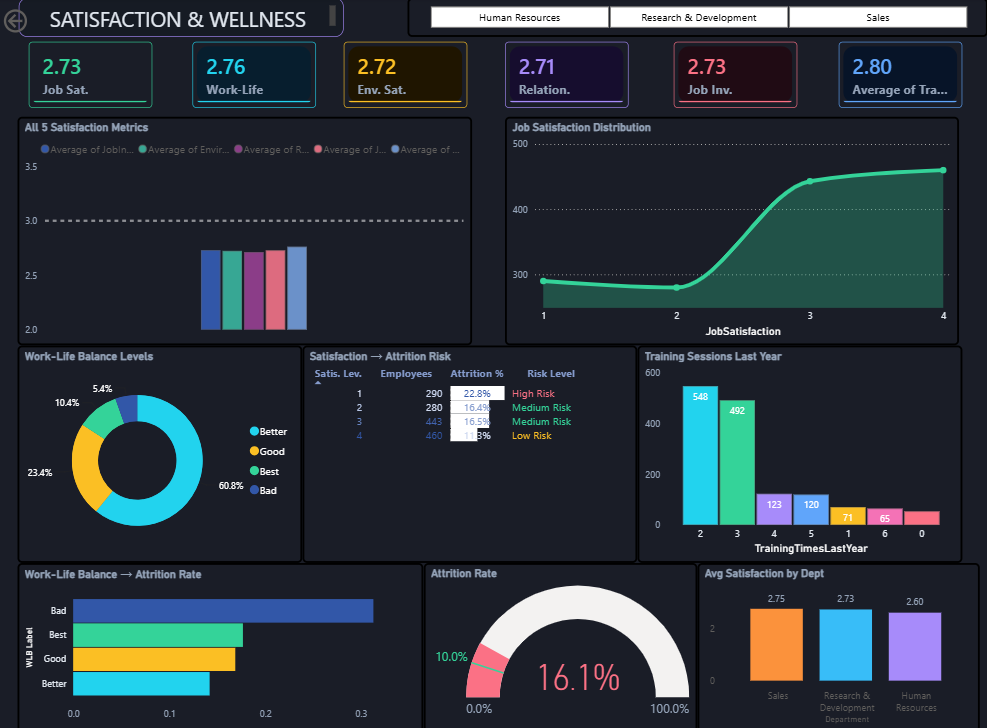

Layout of this report page (visuals, bound fields, positions):
{"tool":"powerbi","page":{"name":"Satisfaction & Wellness","canvas":[1280,950],"ordinal":2},"visuals":[{"type":"textbox","box":[24.3,0,420.9,50.2],"z":5000},{"type":"actionButton","box":[0,10,100,40],"z":6000},{"type":"areaChart","title":"Job Satisfaction Distribution","fields":{"Category":["HR_Analytics.JobSatisfaction"],"Y":["HR_Analytics.Total Employees"]},"box":[654.3,154.3,588,295.7],"z":7000},{"type":"gauge","fields":{"Y":["HR_Analytics.Attrition Rate"]},"box":[548.6,731.4,354.3,218.6],"z":8000},{"type":"lineClusteredColumnComboChart","title":"All 5 Satisfaction Metrics","fields":{"Y":["Avg(HR_Analytics.JobInvolvement)","Avg(HR_Analytics.EnvironmentSatisfaction)","Avg(HR_Analytics.RelationshipSatisfaction)","Avg(HR_Analytics.JobSatisfaction)","Avg(HR_Analytics.WorkLifeBalance)"]},"box":[22.9,154.3,588.6,295.7],"z":9000},{"type":"cardVisual","fields":{"Data":["Avg(HR_Analytics.RelationshipSatisfaction)"]},"box":[654.3,57.1,160,85.7],"z":10000},{"type":"cardVisual","fields":{"Data":["Avg(HR_Analytics.WorkLifeBalance)"]},"box":[250,57.1,160,85.7],"z":11000},{"type":"cardVisual","fields":{"Data":["Avg(HR_Analytics.EnvironmentSatisfaction)"]},"box":[445.7,57.1,160,85.7],"z":12000},{"type":"cardVisual","fields":{"Data":["Avg(HR_Analytics.JobInvolvement)"]},"box":[872.9,57.1,160,85.7],"z":13000},{"type":"cardVisual","fields":{"Data":["Avg(HR_Analytics.TrainingTimesLastYear)"]},"box":[1085.7,57.1,160,85.7],"z":14000},{"type":"cardVisual","fields":{"Data":["Avg(HR_Analytics.JobSatisfaction)"]},"box":[37.1,57.1,160,85.7],"z":15000},{"type":"donutChart","title":"Work-Life Balance Levels","fields":{"Category":["HR_Analytics.WLB Label"],"Y":["HR_Analytics.Total Employees"]},"box":[22.7,450.1,369.1,281.7],"z":17000},{"type":"tableEx","title":"Satisfaction → Attrition Risk","fields":{"Values":["HR_Analytics.JobSatisfaction","HR_Analytics.Total Employees","HR_Analytics.Attrition Rate","HR_Analytics.Risk Level"]},"box":[391.8,450.1,433.9,281.7],"z":18000},{"type":"clusteredColumnChart","title":"Training Sessions Last Year","fields":{"Category":["HR_Analytics.TrainingTimesLastYear"],"Y":["HR_Analytics.Total Employees"]},"box":[825.7,450.1,420.9,281.7],"z":19000},{"type":"clusteredBarChart","title":"Work-Life Balance → Attrition Rate","fields":{"Category":["HR_Analytics.WLB Label"],"Y":["HR_Analytics.Attrition Rate"]},"box":[22.9,731.4,525.7,218.6],"z":20000},{"type":"clusteredColumnChart","title":"Avg Satisfaction by Dept","fields":{"Category":["HR_Analytics.Department"],"Y":["Avg(HR_Analytics.JobSatisfaction)"]},"box":[902.9,731.4,365.7,218.6],"z":21000},{"type":"slicer","fields":{"Values":["HR_Analytics.Department"]},"box":[527.8,0,752.8,50.2],"z":21001}]}

Visuals, with their boxes in screenshot pixels (x1, y1, x2, y2), scaled from the page's 1280x950 canvas onto the 987x728 screenshot:
textbox: bbox(19, 0, 343, 38)
actionButton: bbox(0, 8, 77, 38)
"Job Satisfaction Distribution" areaChart: bbox(505, 118, 958, 345)
gauge - HR_Analytics.Attrition Rate: bbox(423, 560, 696, 727)
"All 5 Satisfaction Metrics" lineClusteredColumnComboChart: bbox(18, 118, 472, 345)
cardVisual - Avg(HR_Analytics.RelationshipSatisfaction): bbox(505, 44, 628, 109)
cardVisual - Avg(HR_Analytics.WorkLifeBalance): bbox(193, 44, 316, 109)
cardVisual - Avg(HR_Analytics.EnvironmentSatisfaction): bbox(344, 44, 467, 109)
cardVisual - Avg(HR_Analytics.JobInvolvement): bbox(673, 44, 796, 109)
cardVisual - Avg(HR_Analytics.TrainingTimesLastYear): bbox(837, 44, 961, 109)
cardVisual - Avg(HR_Analytics.JobSatisfaction): bbox(29, 44, 152, 109)
"Work-Life Balance Levels" donutChart: bbox(18, 345, 302, 561)
"Satisfaction → Attrition Risk" tableEx: bbox(302, 345, 637, 561)
"Training Sessions Last Year" clusteredColumnChart: bbox(637, 345, 961, 561)
"Work-Life Balance → Attrition Rate" clusteredBarChart: bbox(18, 560, 423, 727)
"Avg Satisfaction by Dept" clusteredColumnChart: bbox(696, 560, 978, 727)
slicer - HR_Analytics.Department: bbox(407, 0, 986, 38)
